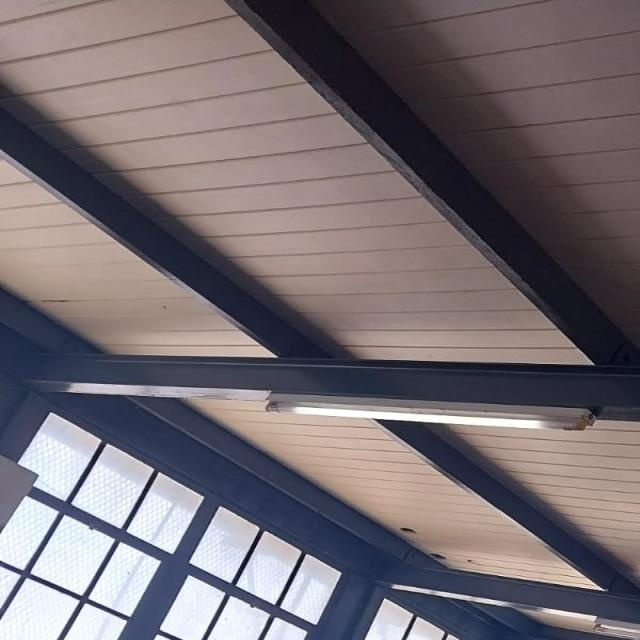fluorescent tube: (218, 378, 618, 458), (573, 613, 640, 640)
